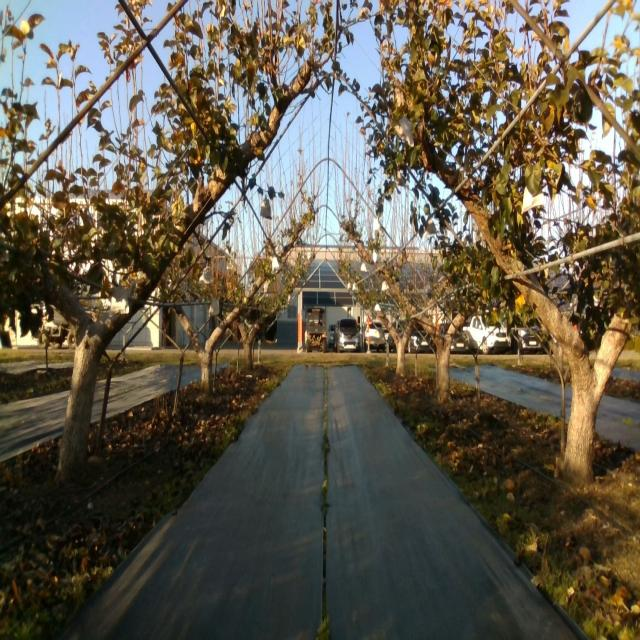pearbags: (522, 182, 546, 216), (108, 285, 130, 320), (394, 116, 414, 149), (198, 259, 214, 286), (260, 194, 272, 220)
